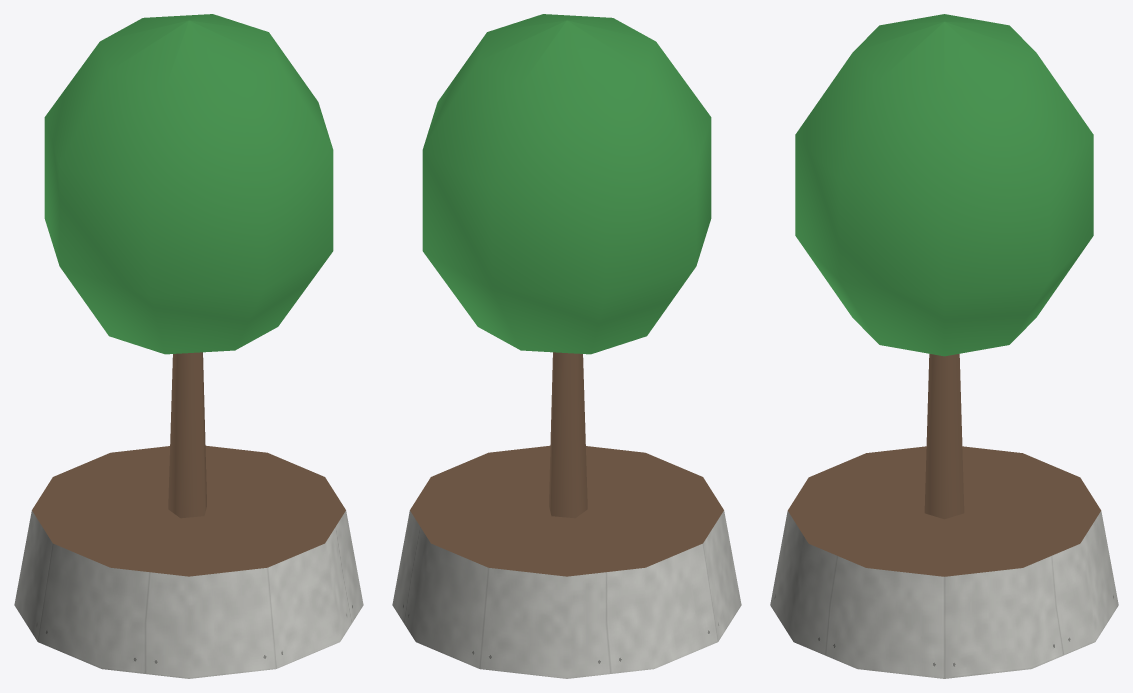
Rendered from prop_planter_tree.glb.
3 views of the same model, side by side, from view 1: azimuth 30°, elevation 25°; view 2: azimuth 150°, elevation 25°; view 3: azimuth 270°, elevation 25° (orthographic).
Visible parts, largest first — view 1: prop_planter_tree_LOD0; view 2: prop_planter_tree_LOD0; view 3: prop_planter_tree_LOD0.
Part boxes in pixels (left/top/right/bottom): prop_planter_tree_LOD0: left=14, top=14, right=363, bottom=678; prop_planter_tree_LOD0: left=392, top=14, right=741, bottom=678; prop_planter_tree_LOD0: left=770, top=14, right=1118, bottom=678.
Size of what is drawn, in the model's own units: 2 by 3.69 by 2.
2 materials, 2 textured.
